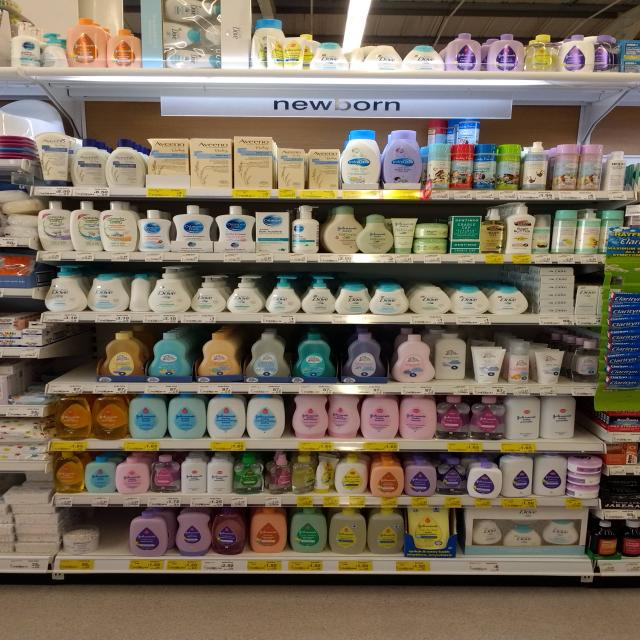empty: (49, 324, 101, 384), (93, 508, 135, 554), (575, 398, 606, 449)
